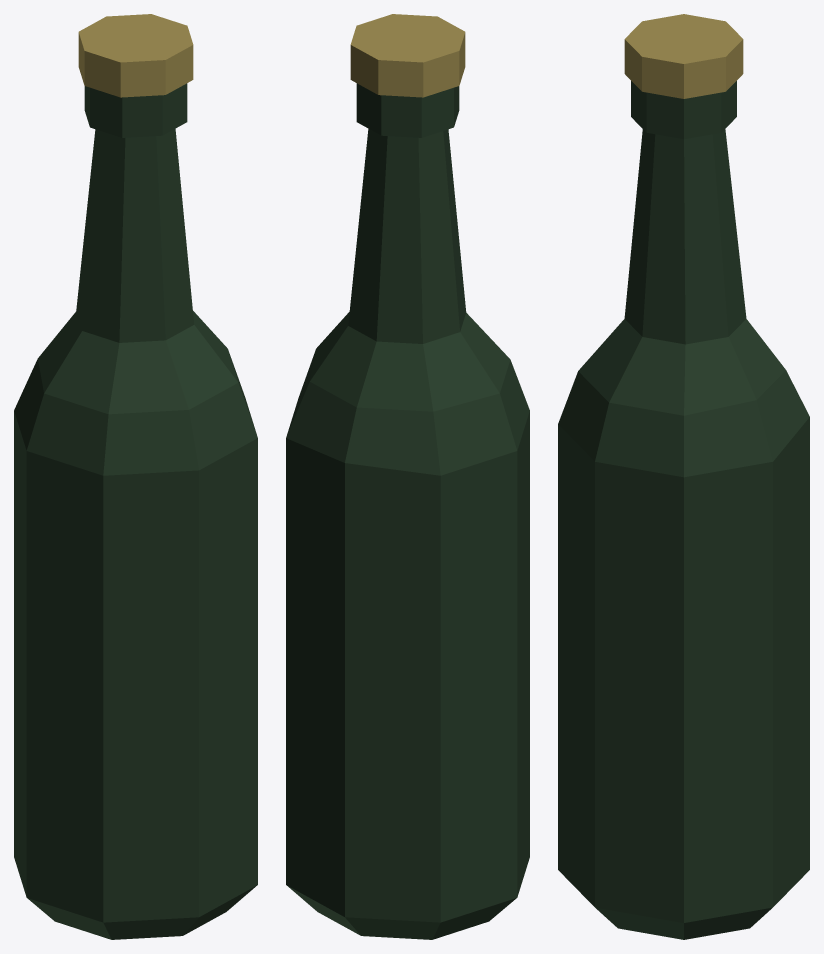
File: beer.fbx
The picture shows the model from 3 angles, left to right: view 1: azimuth 30°, elevation 25°; view 2: azimuth 150°, elevation 25°; view 3: azimuth 270°, elevation 25°; orthographic projection.
Visible parts, largest first — view 1: pivo, pivo_vrch; view 2: pivo, pivo_vrch; view 3: pivo, pivo_vrch.
Part boxes in pixels (x1,y1,x2,y2): pivo: (14,83,257,939); pivo_vrch: (78,14,193,97); pivo: (286,83,529,939); pivo_vrch: (350,14,465,97); pivo: (558,81,809,939); pivo_vrch: (624,14,743,98).
Bounding box in the file's own units: 200 × 755 × 200.
